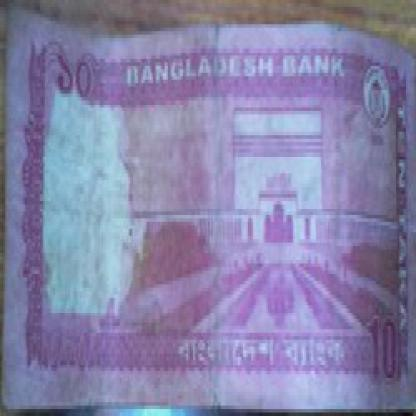Ten Taka: (45, 31, 101, 111), (366, 305, 399, 385)
